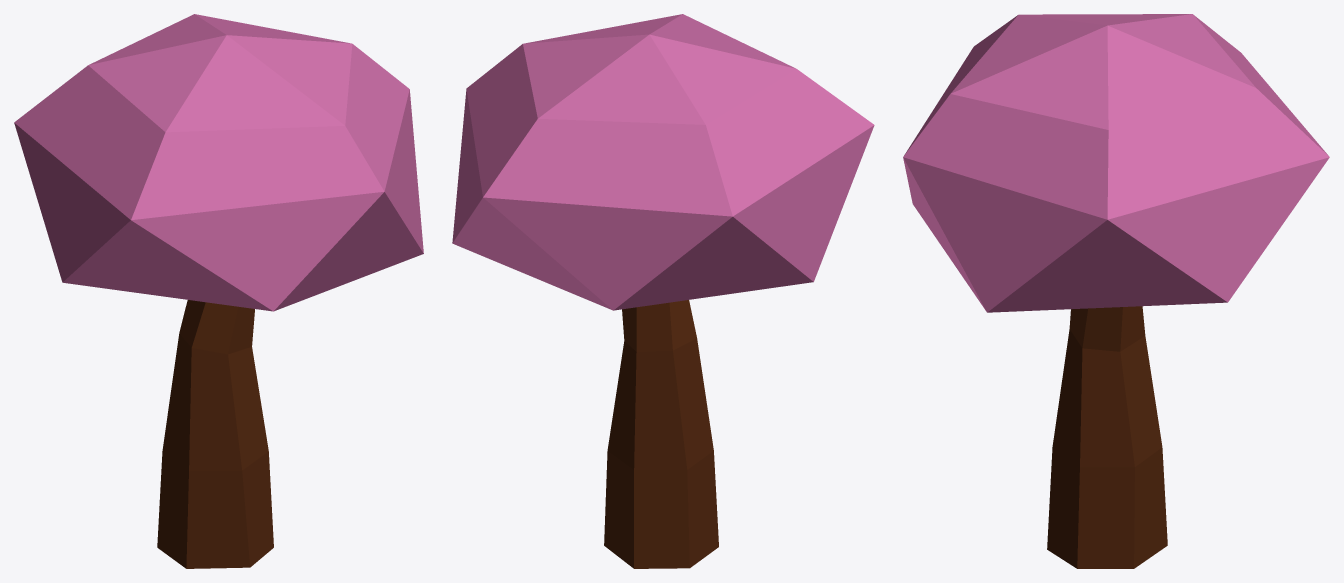
File: CherryBlossomTree1.fbx
3 renders of one model, left to right at view 1: azimuth 30°, elevation 25°; view 2: azimuth 150°, elevation 25°; view 3: azimuth 270°, elevation 25°, orthographic. The views are drawn at different scales.
Parts seen in each view (by area): view 1: Cylinder; view 2: Cylinder; view 3: Cylinder.
Part boxes in pixels (<box>): Cylinder: <box>14,14,423,568</box>; Cylinder: <box>452,14,874,568</box>; Cylinder: <box>903,14,1329,568</box>.
Size of the model in its own units: 4.9 by 6.87 by 5.05.
